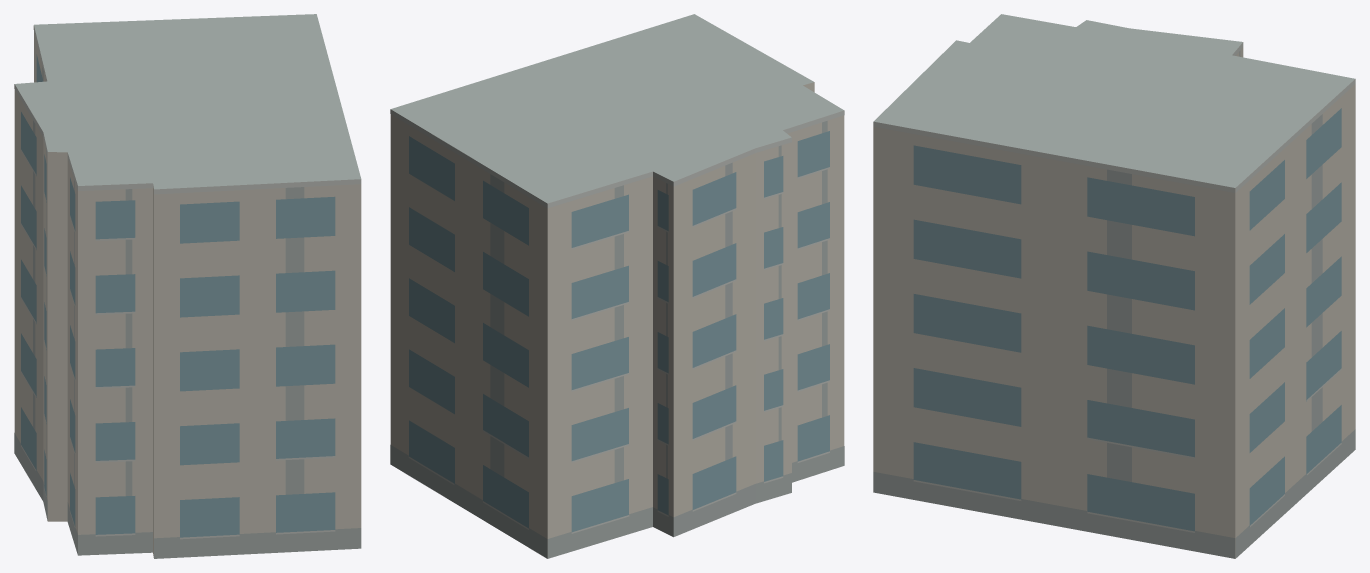
File: survey-upis-32956017.glb
3 renders of one model, left to right at view 1: azimuth 30°, elevation 25°; view 2: azimuth 150°, elevation 25°; view 3: azimuth 270°, elevation 25°, orthographic. The views are drawn at different scales.
Parts seen in each view (by area): view 1: survey-upis-32956017.tmp; view 2: survey-upis-32956017.tmp; view 3: survey-upis-32956017.tmp.
Part boxes in pixels (left/top/right/bottom): survey-upis-32956017.tmp: left=14, top=14, right=361, bottom=558; survey-upis-32956017.tmp: left=390, top=14, right=844, bottom=558; survey-upis-32956017.tmp: left=873, top=14, right=1355, bottom=558.
Size of the model in its own units: 18.03 by 17.91 by 21.11.
